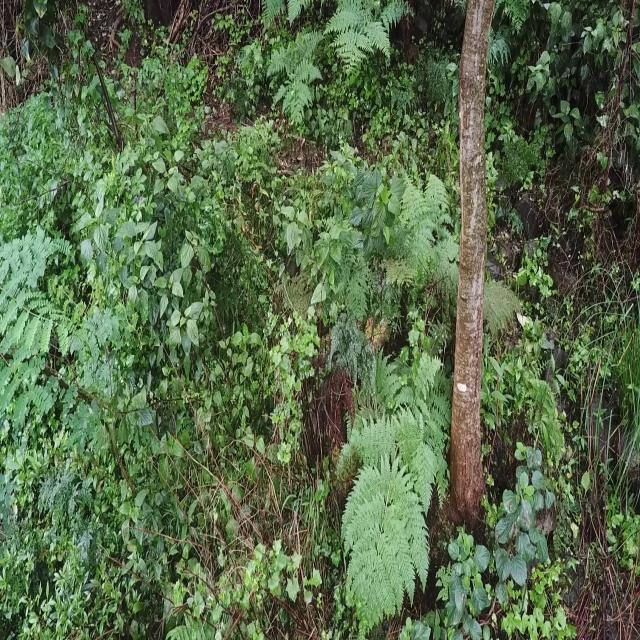Mysore-Thorn-Weed: (0, 210, 121, 486)
